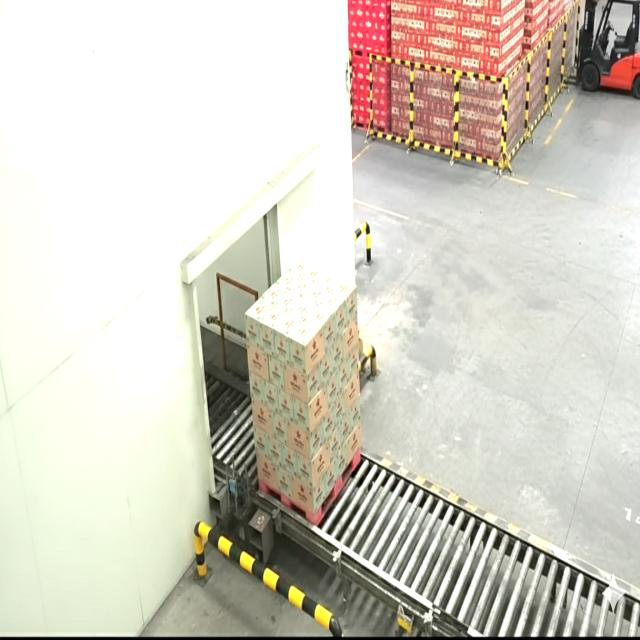pallet: (244, 252, 366, 537)
